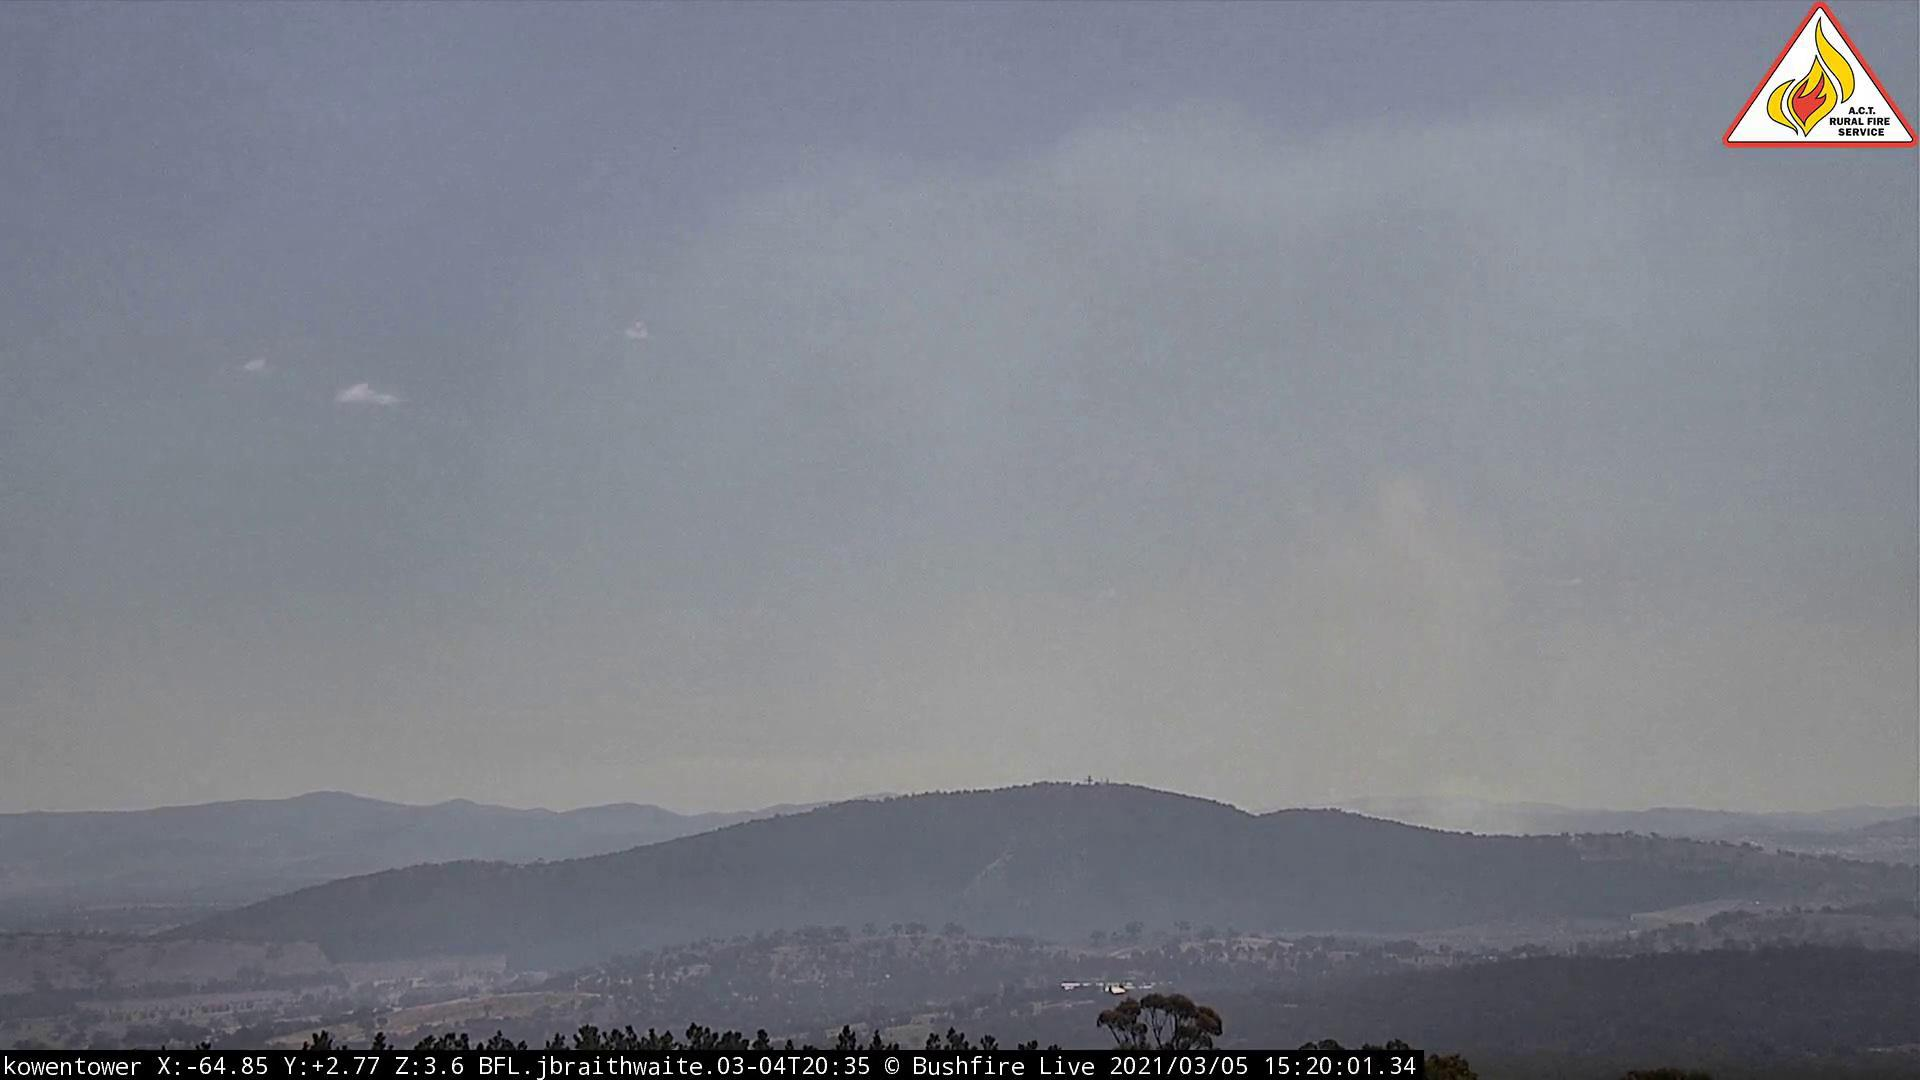Smoke: (1184, 447, 1571, 843)
